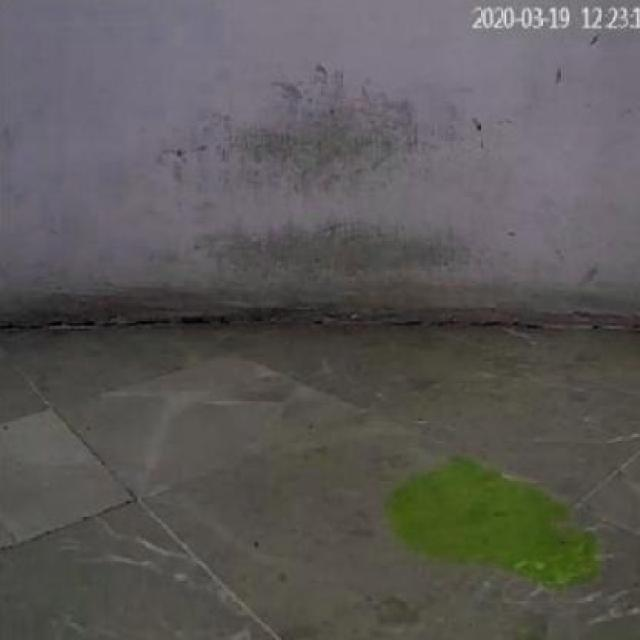spillage: (380, 456, 603, 592)
